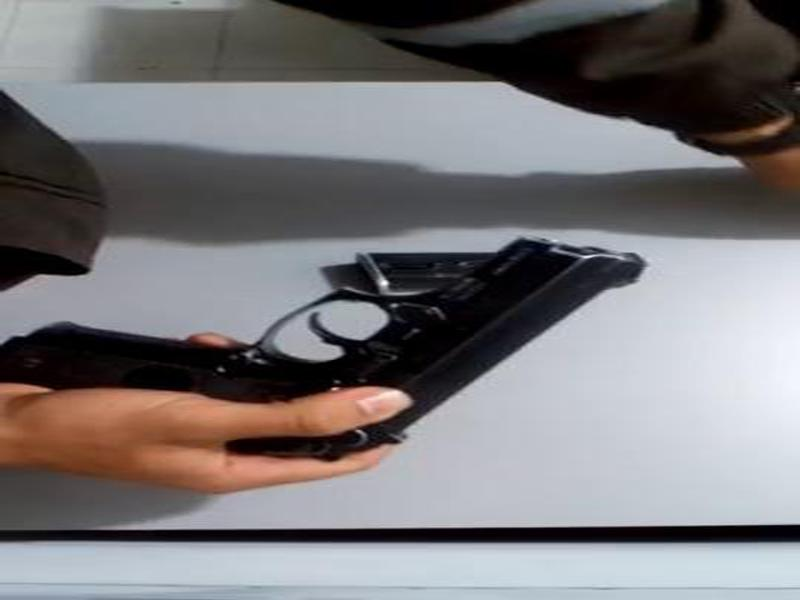Pistola: (1, 220, 659, 463)
